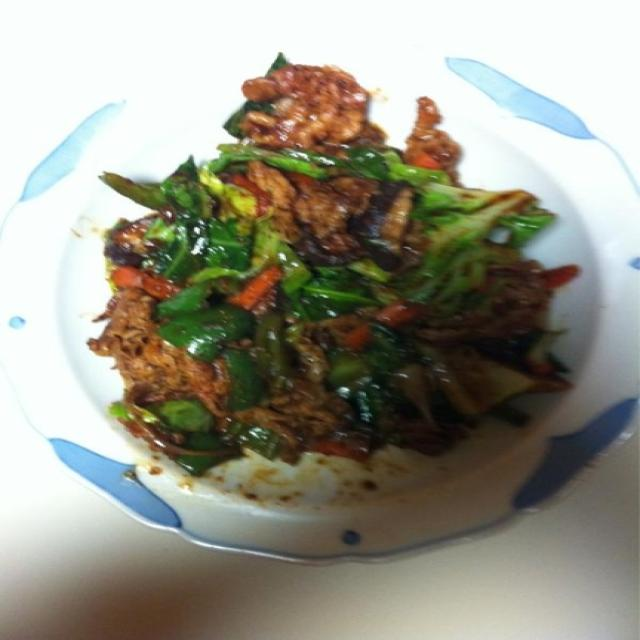炸货点心: (0, 53, 640, 640)
